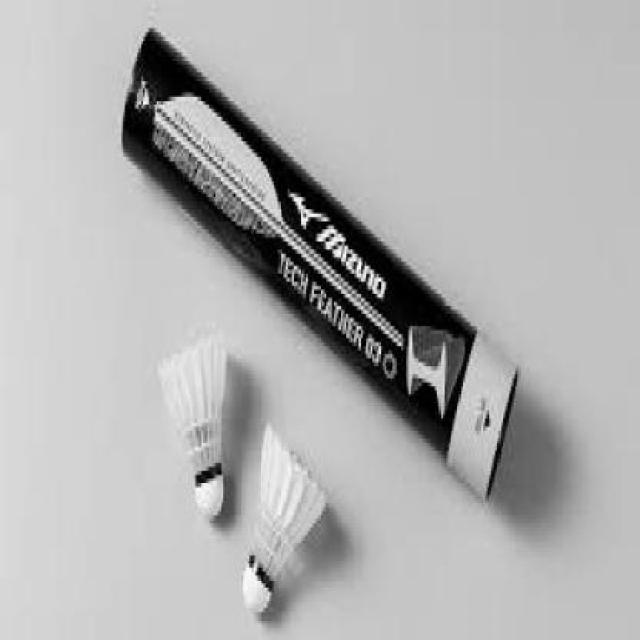Shuttlecock: (243, 420, 329, 618), (155, 324, 231, 530)
